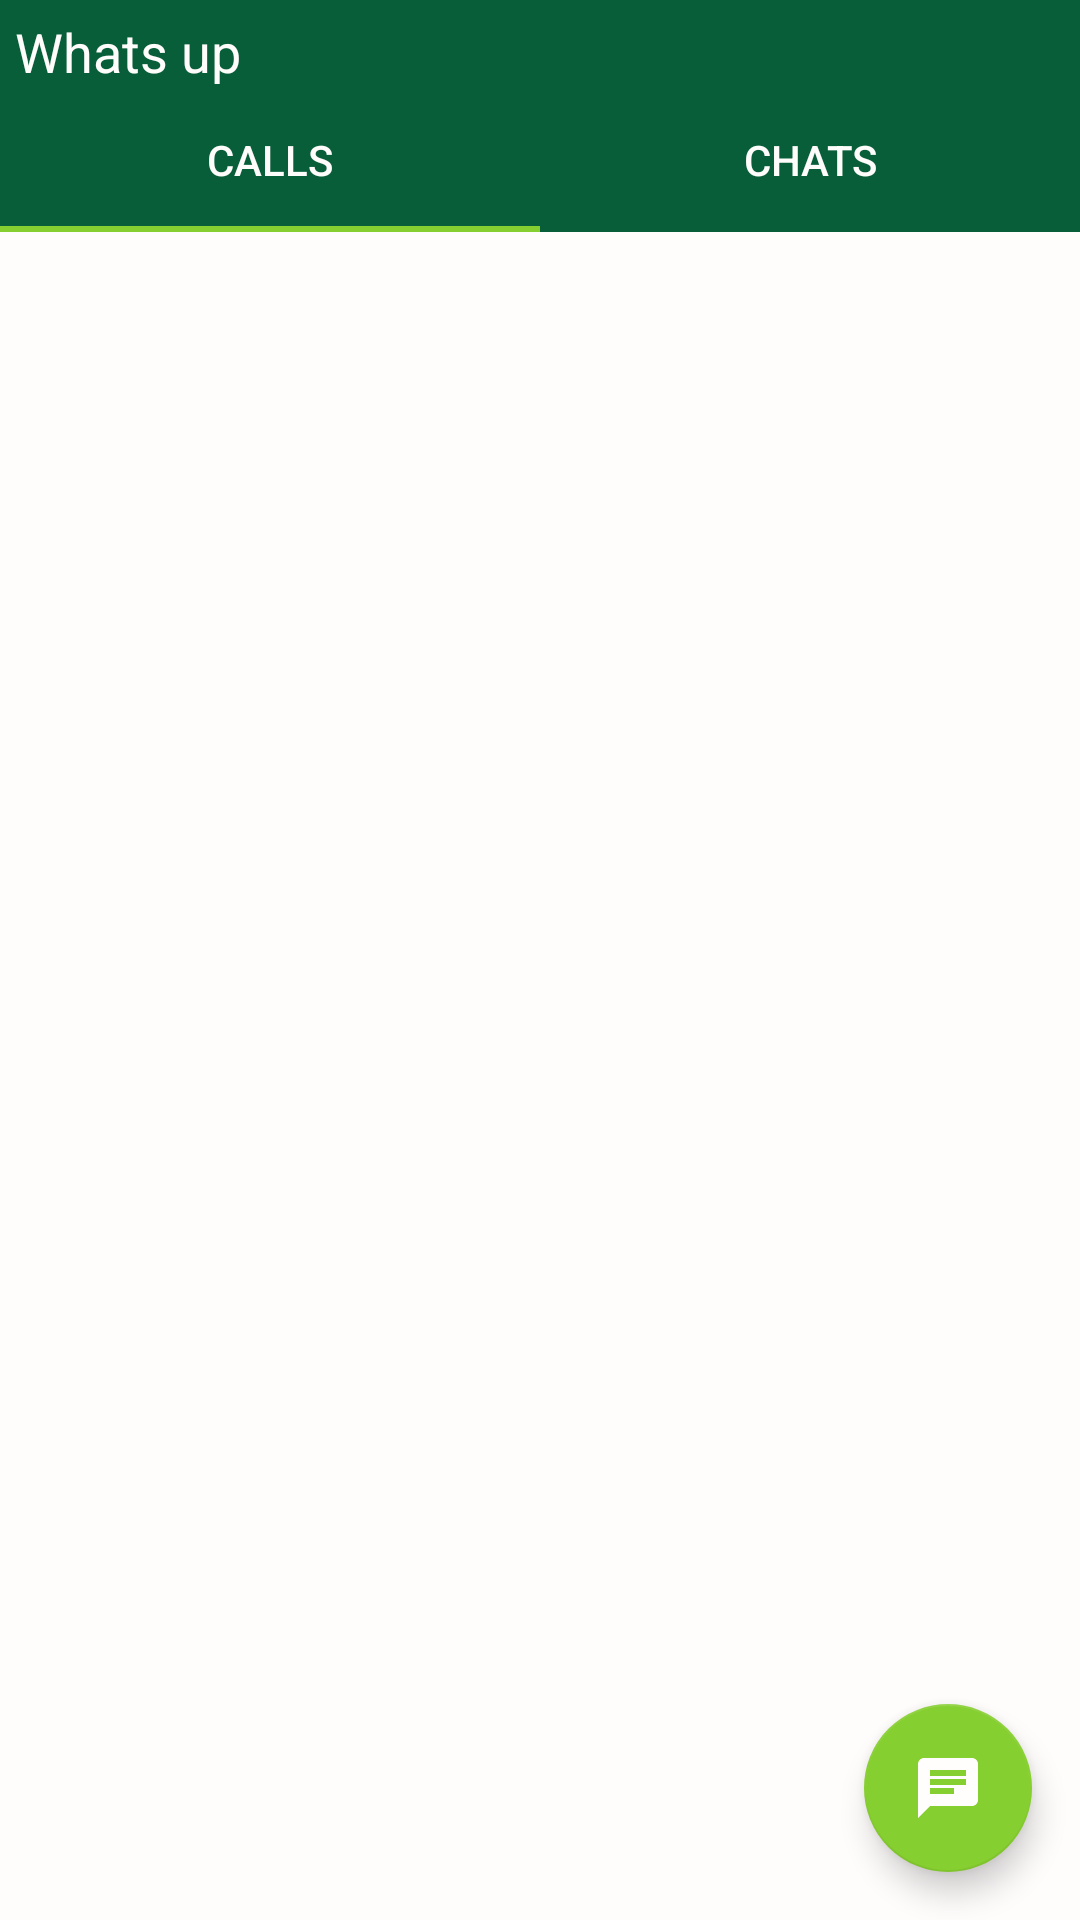

Icon bounding boxes for this 1080px×1920px phone screenshot, format rect(x1, y1, x2, y2):
chat: rect(864, 1704, 1032, 1872)
